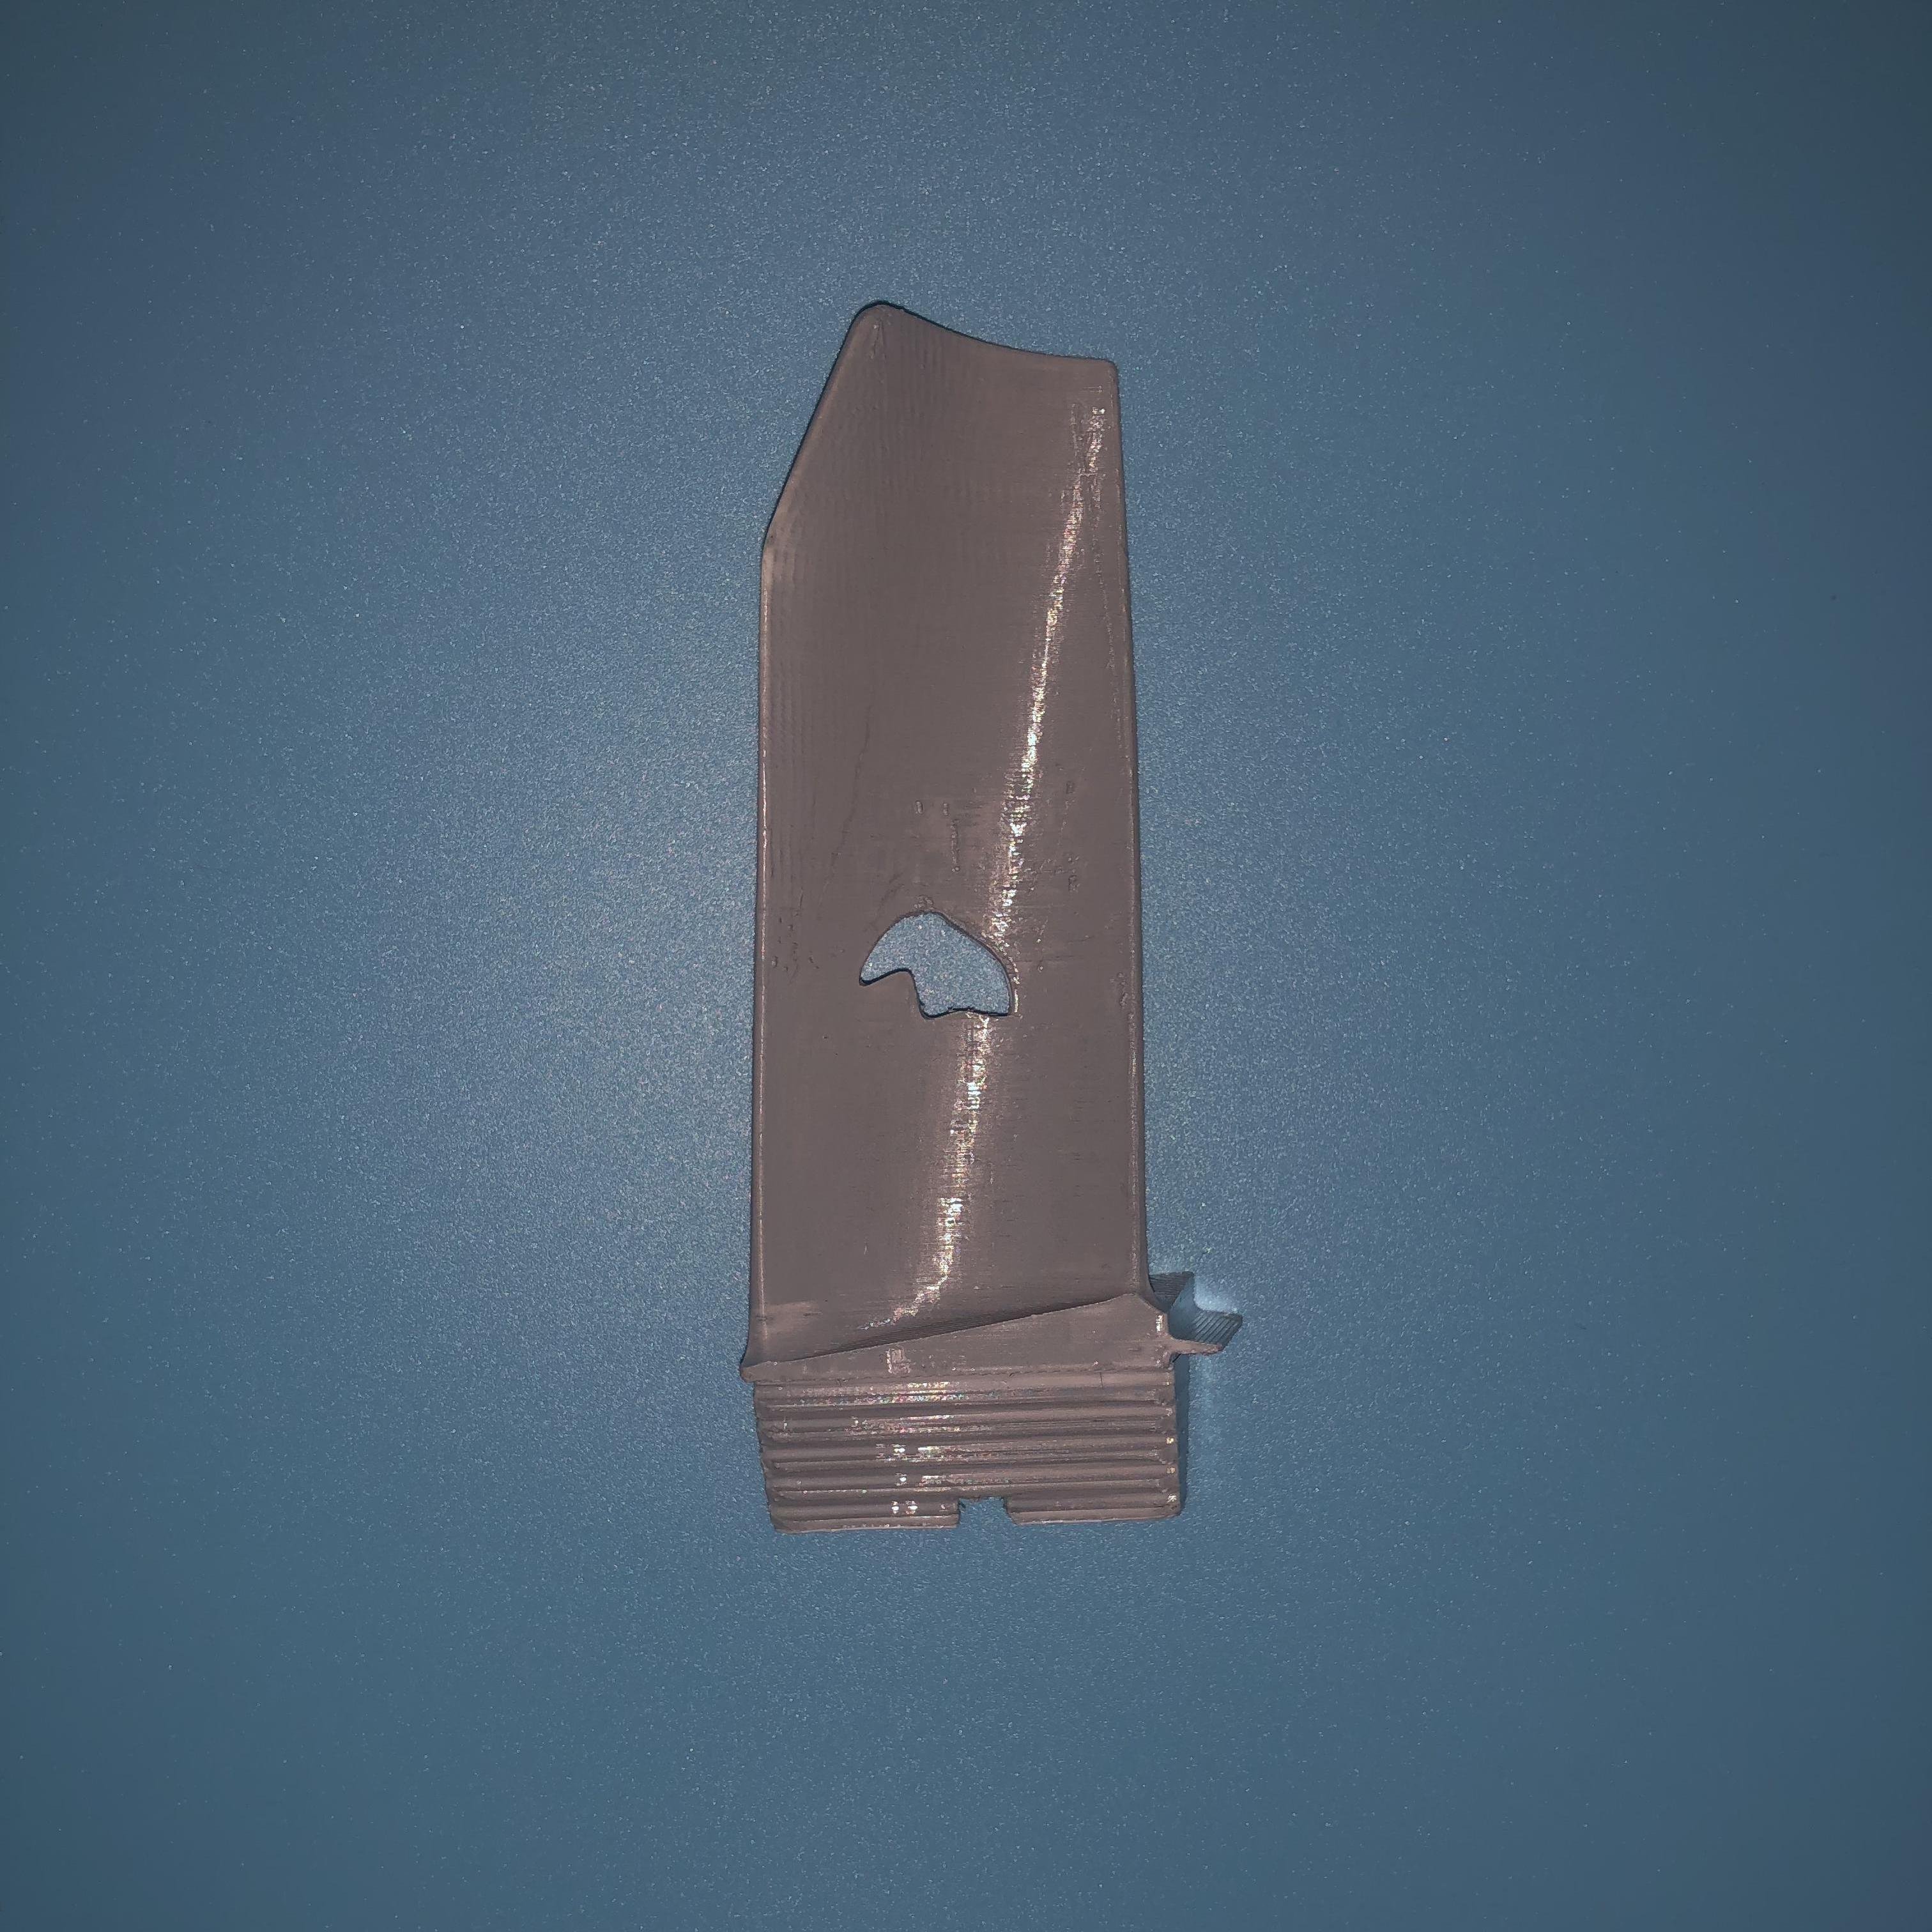breakdown: (858, 897, 1047, 1031)
